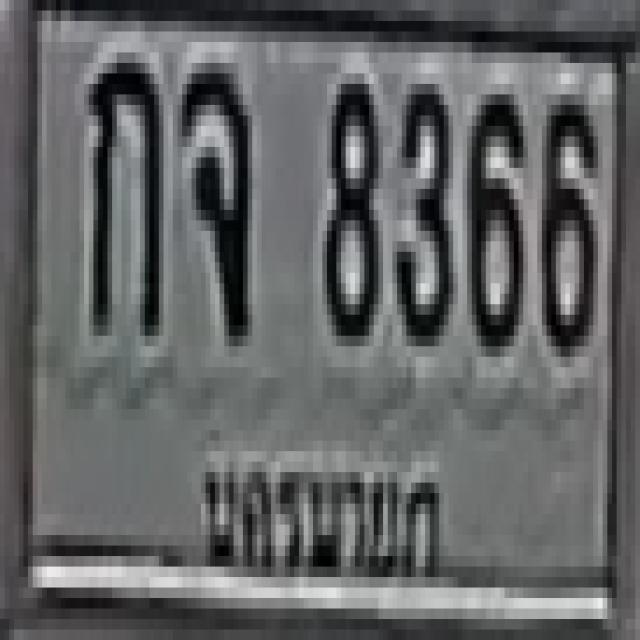3: (392, 73, 448, 336)
6: (538, 84, 594, 346), (462, 84, 518, 346)
8: (322, 73, 374, 336)
A01: (84, 52, 159, 326)
A08: (178, 57, 248, 330)
NYK: (190, 434, 452, 610)
